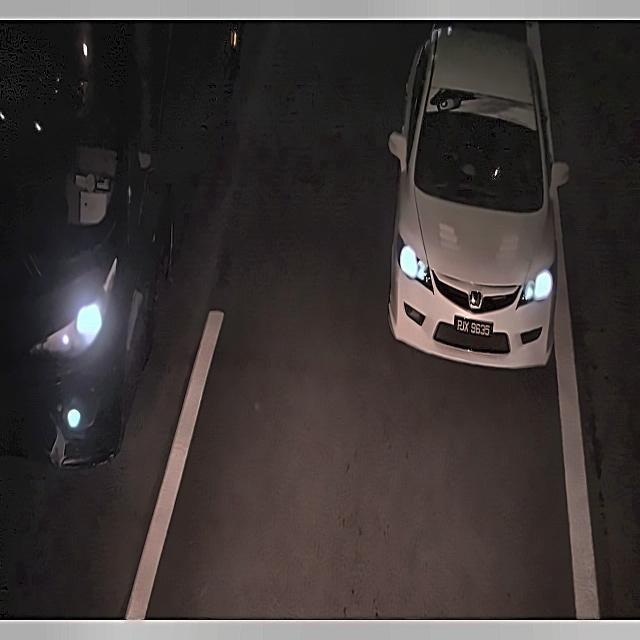car: (450, 302, 499, 346)
